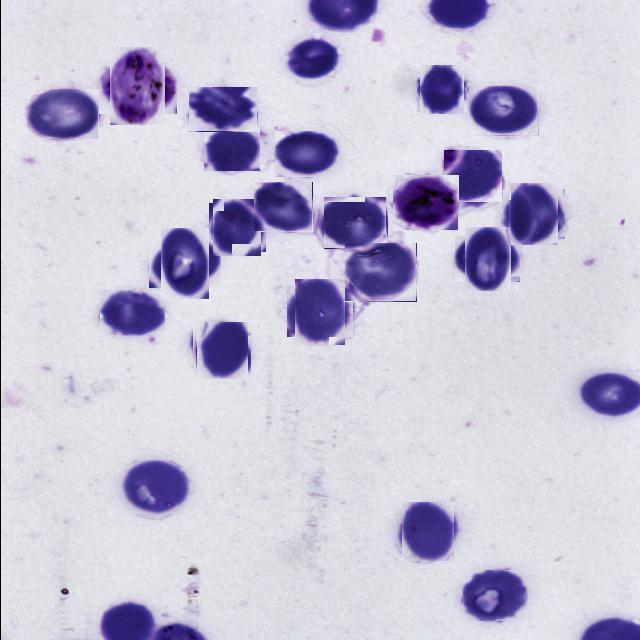red blood cell: (344, 243, 416, 302), (120, 460, 190, 514), (26, 89, 98, 140), (154, 234, 214, 294), (468, 86, 538, 136), (322, 197, 387, 249), (290, 282, 348, 340), (462, 570, 526, 622), (399, 504, 455, 560), (505, 186, 561, 242), (188, 87, 257, 132), (443, 150, 501, 202), (274, 131, 339, 177), (194, 323, 248, 378), (459, 232, 514, 286), (253, 182, 312, 232), (99, 290, 164, 335), (210, 201, 263, 254), (203, 128, 259, 171), (284, 36, 338, 80), (418, 66, 464, 113)
schizont: (104, 52, 170, 120), (392, 175, 458, 231)
